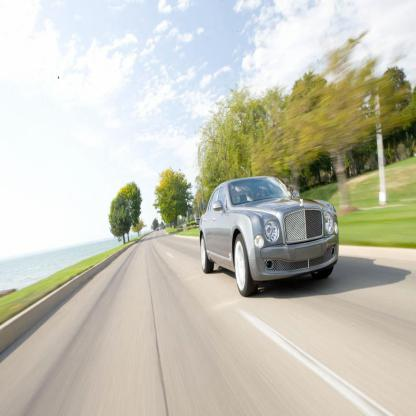Vehicle: (198, 174, 340, 298)
